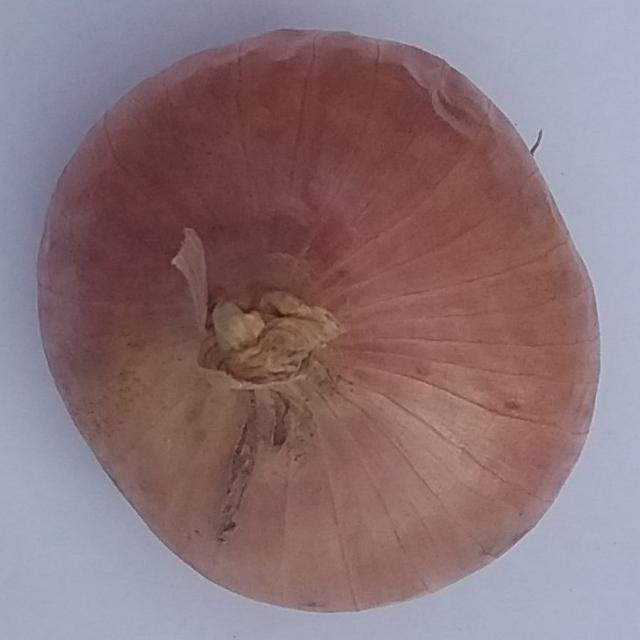onion: (32, 26, 604, 614)
